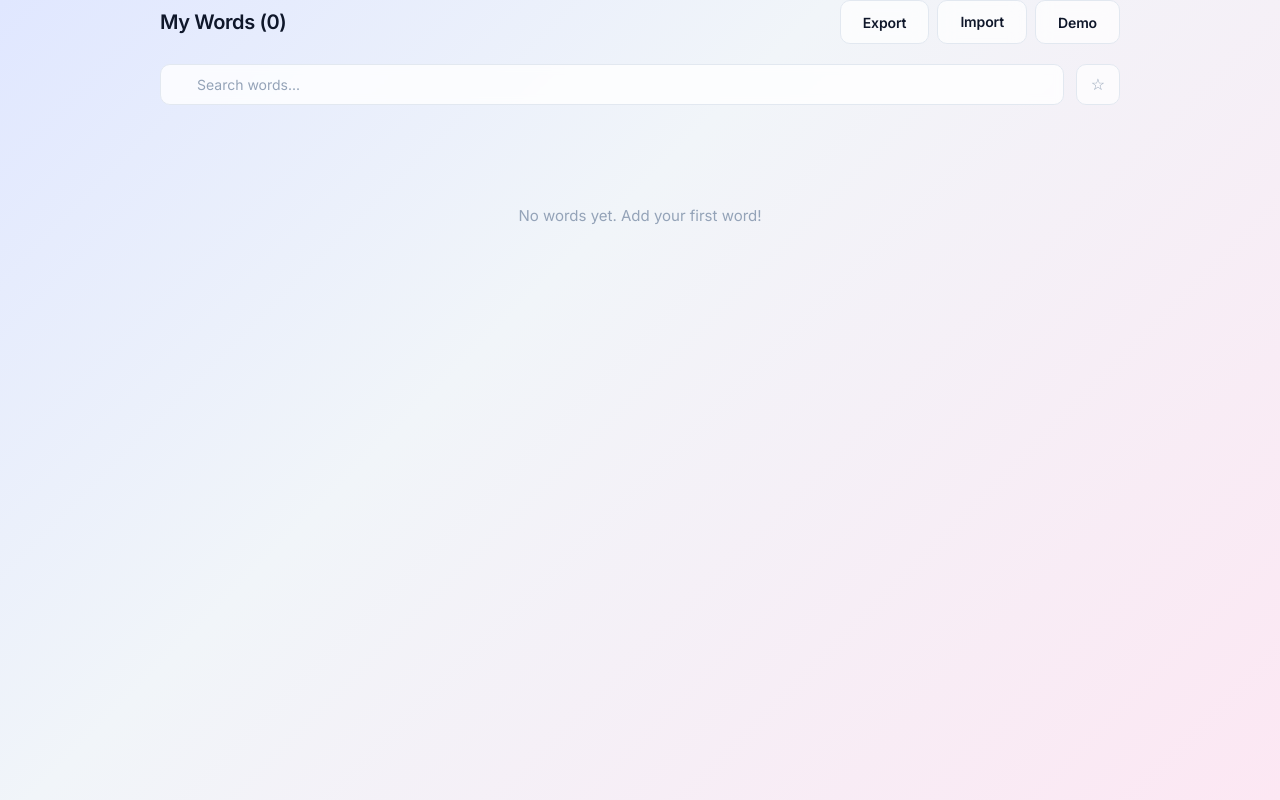
Test: WordList › reports zero additions when all demo pairs already exist
Click the button "Demo" at (1078, 22), box left=1035, top=0, right=1120, bottom=44
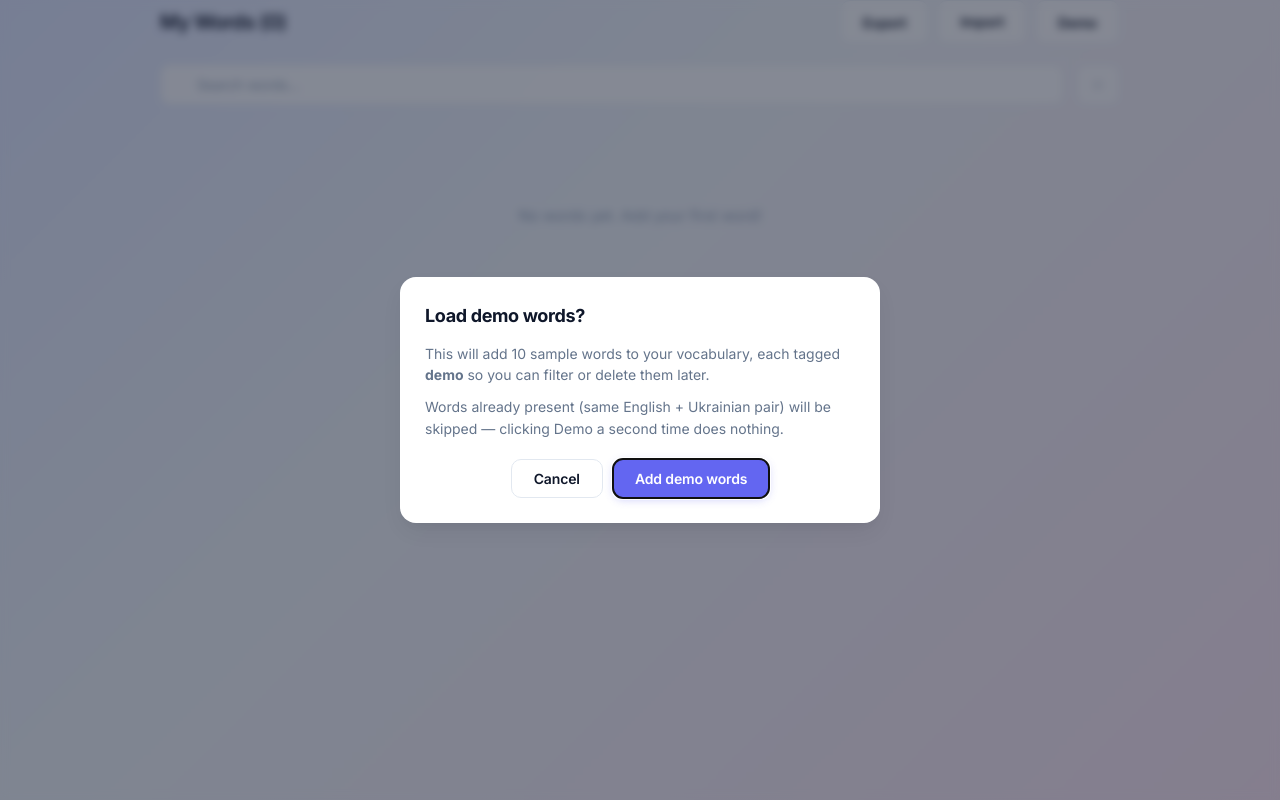
Click the button "Add demo words" at (691, 479), box left=613, top=459, right=769, bottom=498
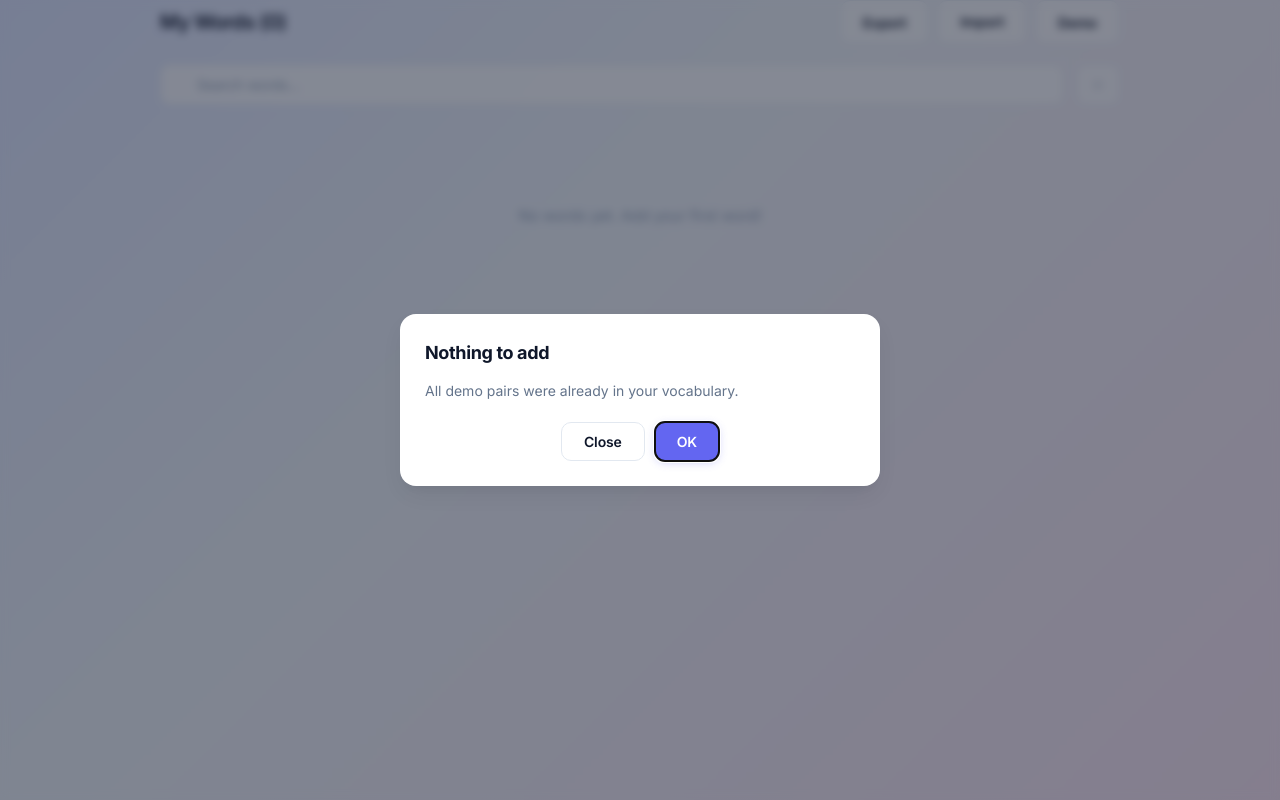
Expected: the text "All demo pairs were already in your vocabulary." is shown, left=425, top=382, right=739, bottom=399
